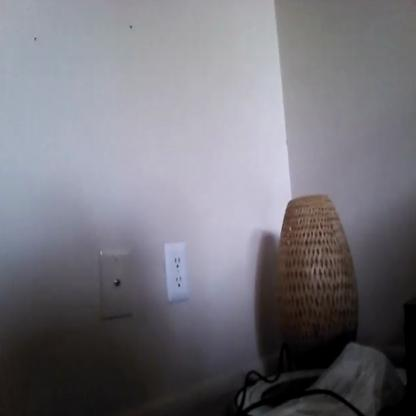OUTLET: (164, 242, 188, 301)
